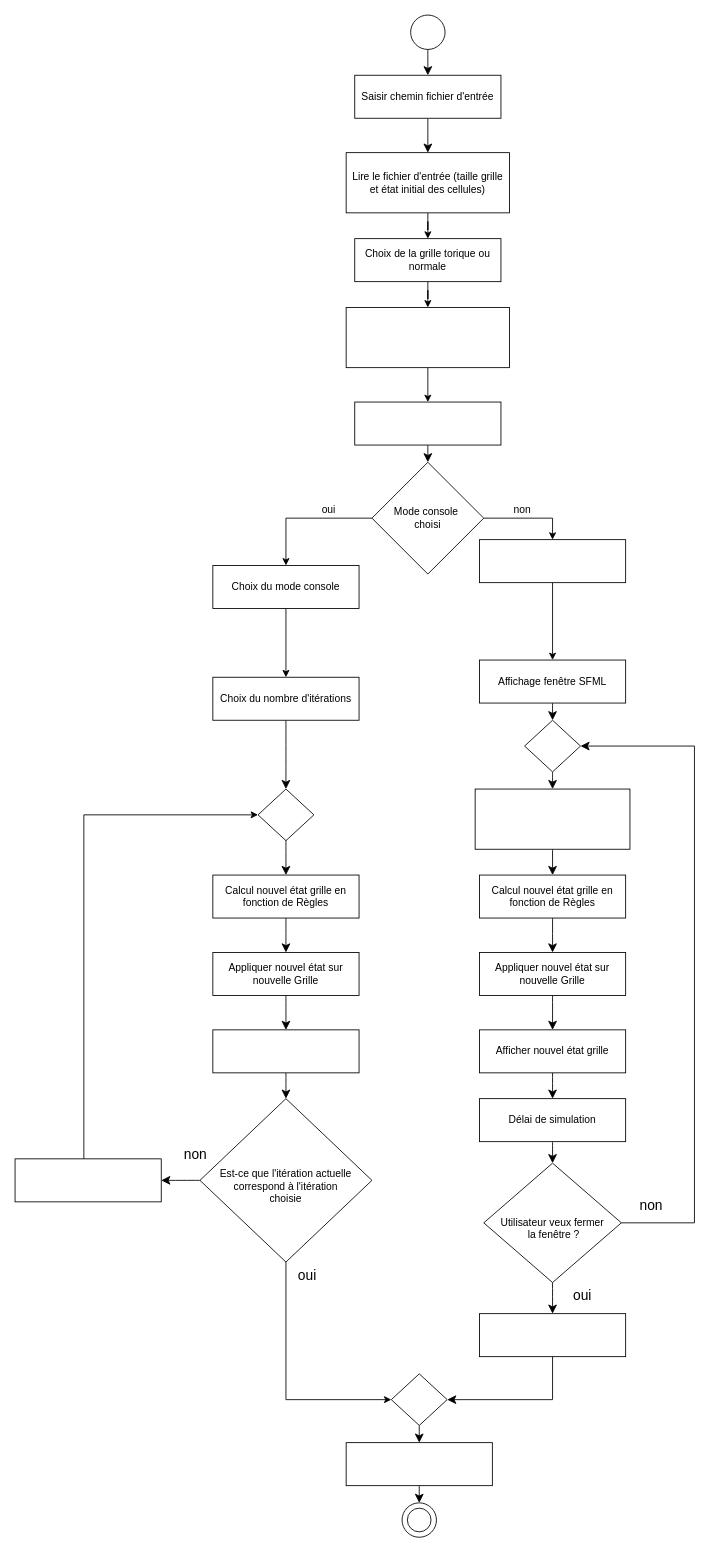
The diagram is 718 pixels wide and 1552 high, and some of its shapes have lost their labels. Each missing label, with the centre of its shape:
Ancienne grille devient nouvelle grille: the point at 87,1180
Choix du mode console ou graphique: the point at 427,423
Choix du mode graphique: the point at 552,561
Construire les différents objets (Grille, Cellules, Règles): the point at 427,337
Fermer la fenêtre: the point at 552,1335
Fin programme: the point at 418,1464
Gérer évènement de fermeture de la fenêtre: the point at 552,818
Sortie grille fichier itération actuelle <nom_fichier>_out: the point at 285,1051
